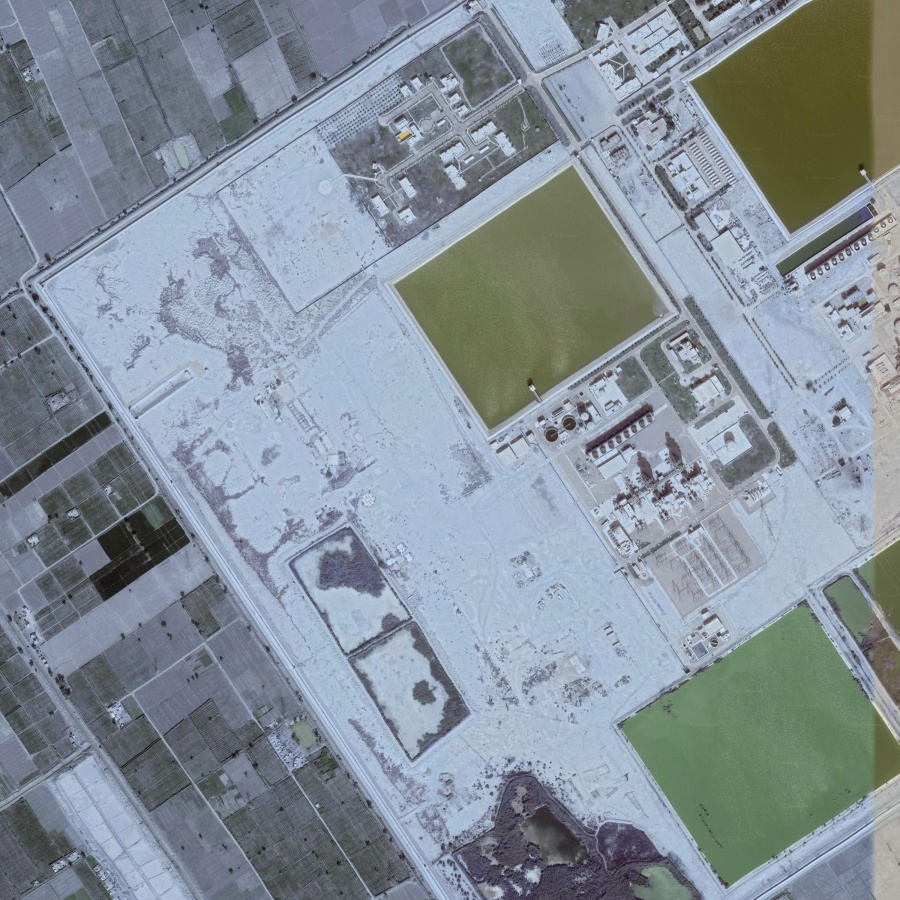PowerPlant: (541, 328, 783, 649)
